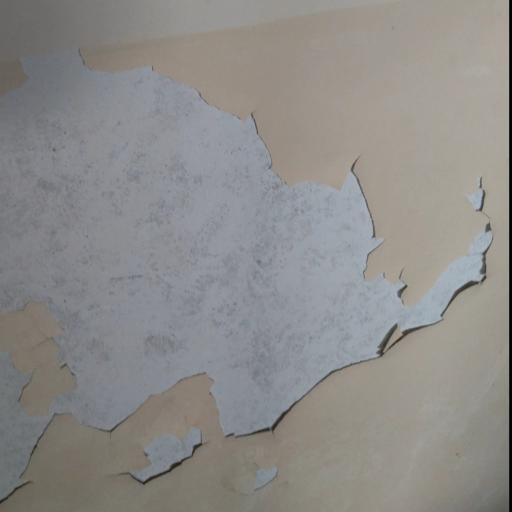peeling: (0, 21, 494, 504)
